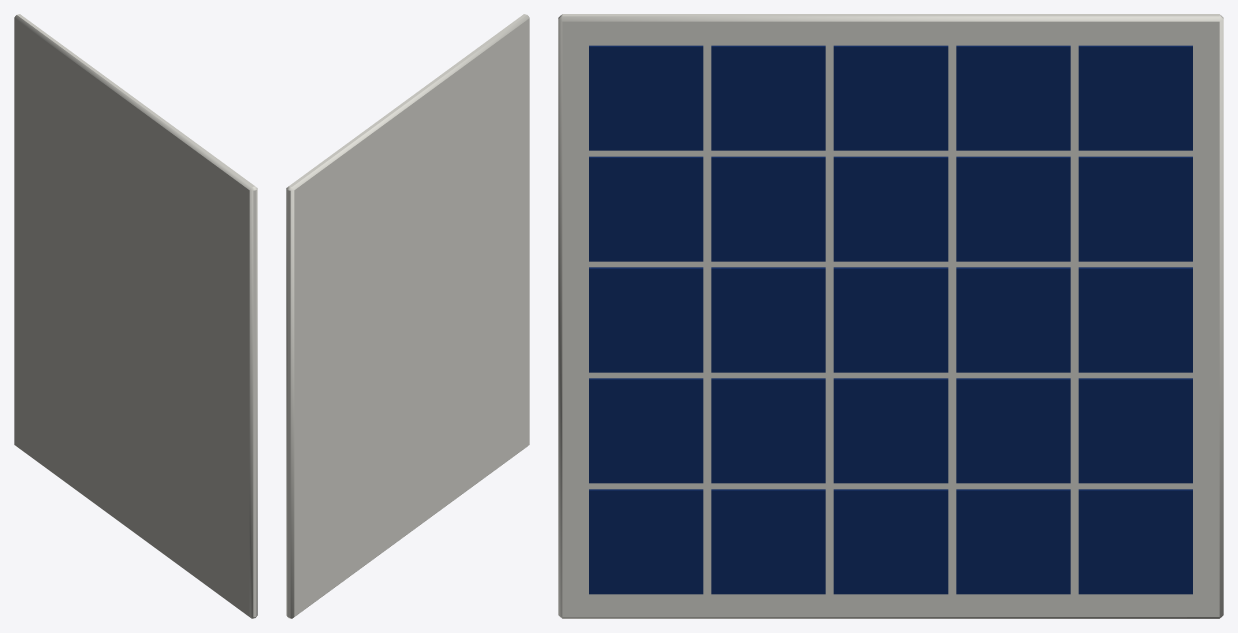
Rendered from solar_panel.glb.
The picture shows the model from 3 angles, left to right: view 1: azimuth 30°, elevation 25°; view 2: azimuth 150°, elevation 25°; view 3: azimuth 270°, elevation 25°; orthographic projection. The views are drawn at different scales.
Parts seen in each view (by area): view 1: Frame; view 2: Frame; view 3: Cells, Frame.
Boxes of the visible parts, x1,y1,x2,y2 form: Frame: (14,14,257,618); Frame: (286,14,529,618); Cells: (589,45,1192,594); Frame: (558,14,1223,618).
Size of the model in its own units: 0.025 by 1 by 1.
